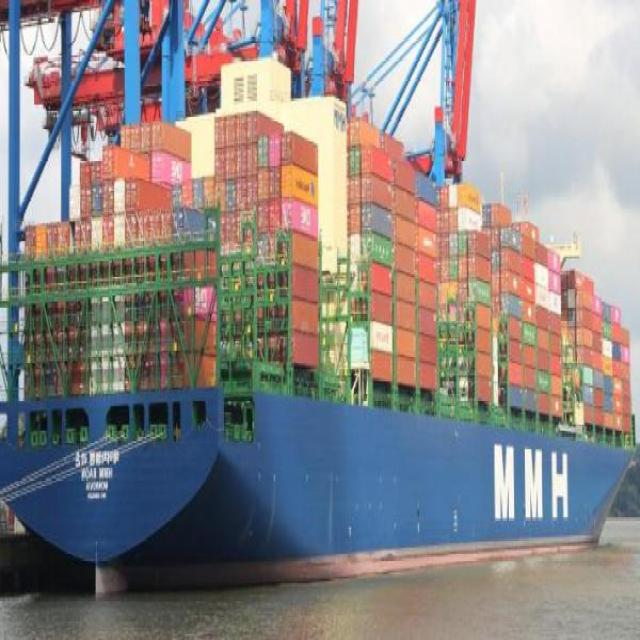Container Ship: (1, 3, 632, 597)
